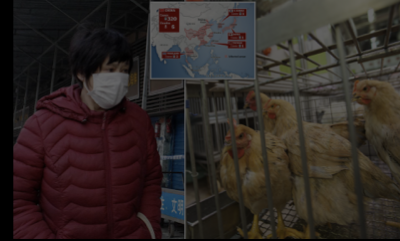with_mask: (87, 59, 133, 109)
